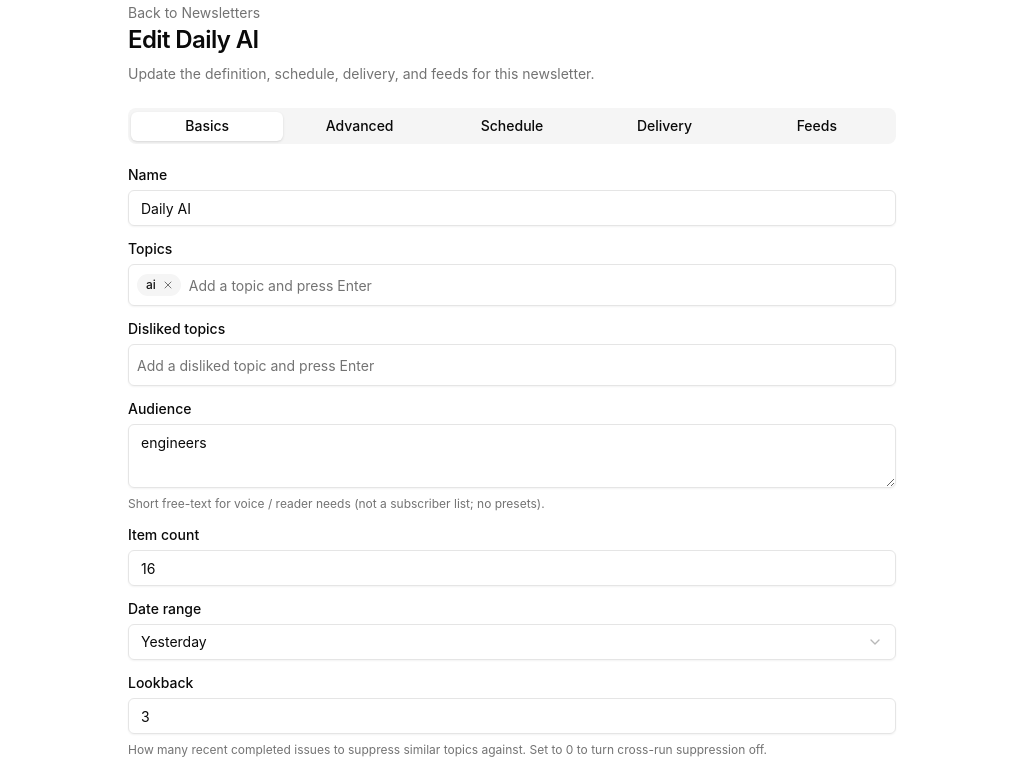
Test case: NewsletterEditForm — Delivery › Delivery tab shows recipients and auto toggles reflecting defaults
The image size is (1024, 768).
Click the tab "Delivery" at (664, 126), box x1=588 y1=112 x2=741 y2=140
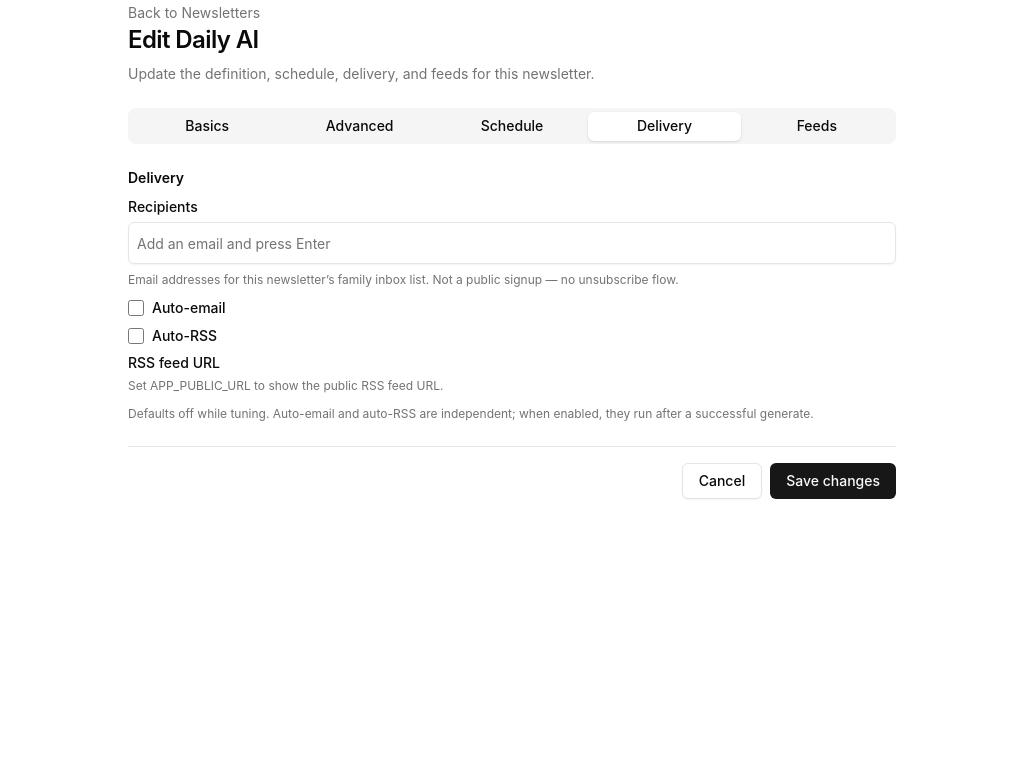
Expected: the heading "Delivery" is shown, x1=128 y1=169 x2=184 y2=186
Expected: the field labelled "Recipients" is shown, x1=137 y1=229 x2=887 y2=257
Expected: the checkbox labelled "Auto-email" is not checked, x1=128 y1=300 x2=144 y2=316
